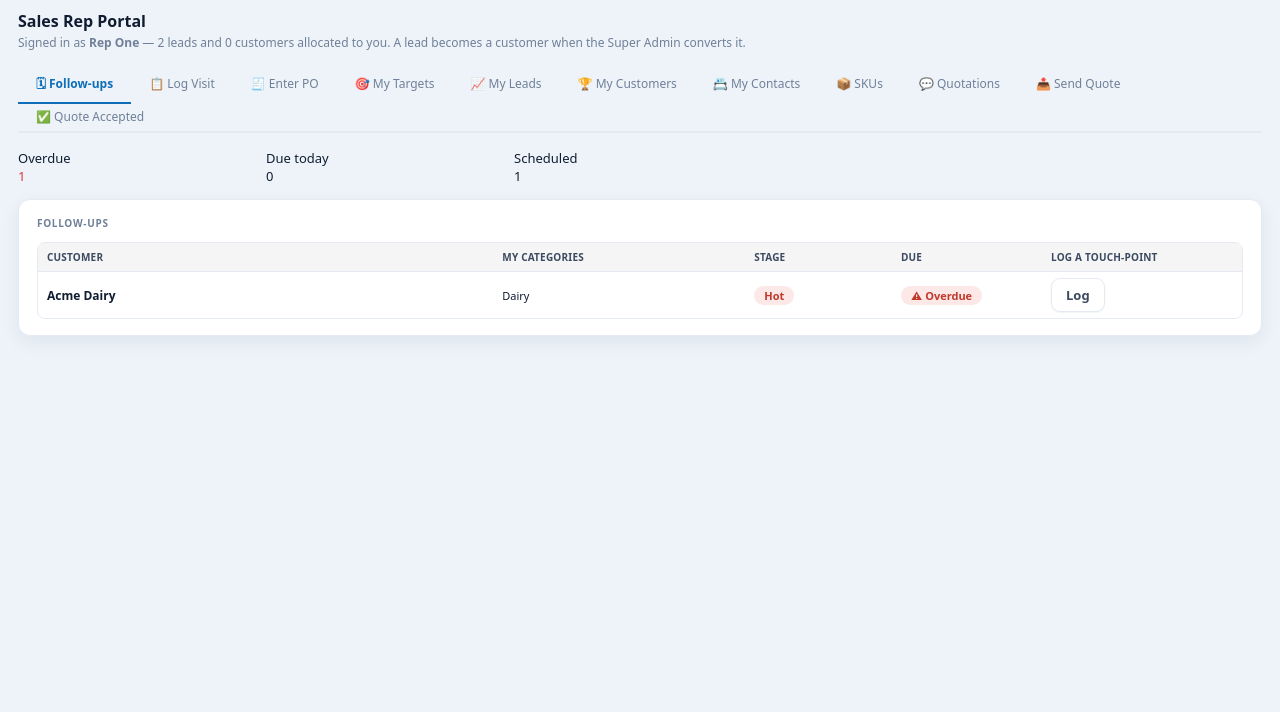
Rep Portal — contacts › shows only contacts of the rep's own customers
The width and height of the screenshot is (1280, 712).
Expected: the text "Sales Rep Portal" is shown, [18,10,146,32]
Click the text with class "step-tab" showing "📇 My Contacts": (757, 84) [713,75,800,92]
(page scrolled)
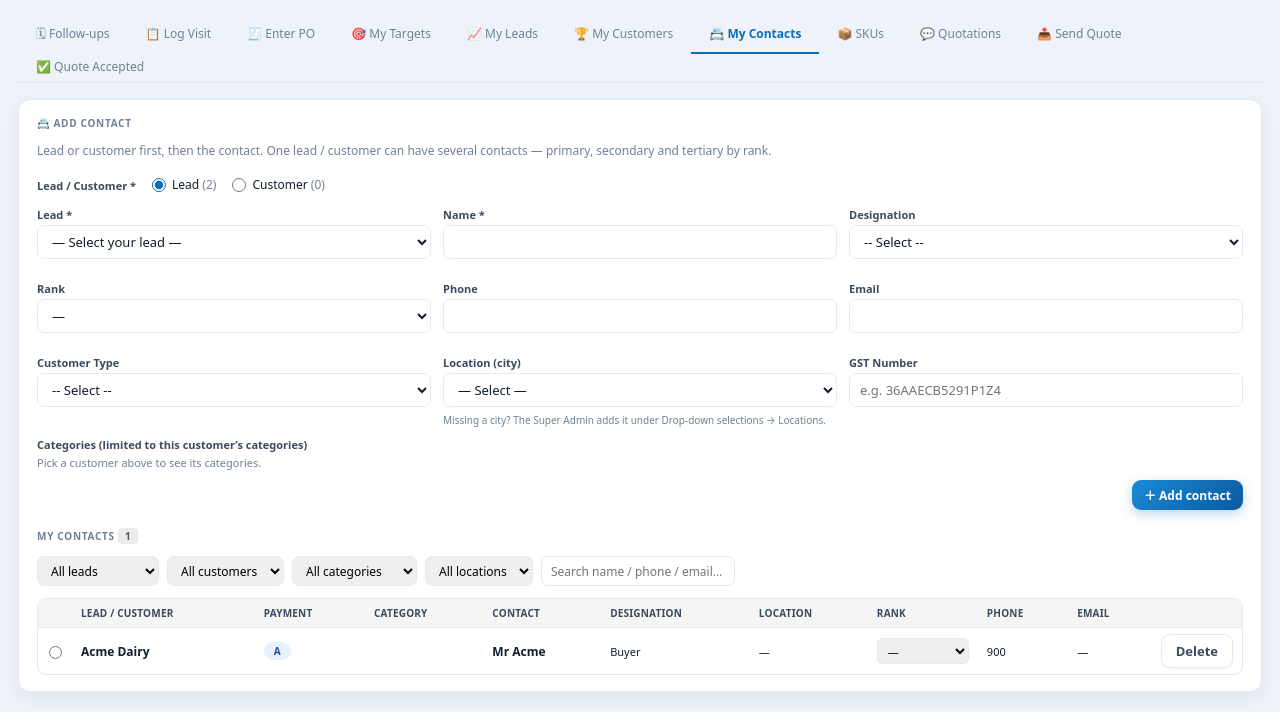
Result: the text "Mr Acme" is shown at [483,628,601,674]
